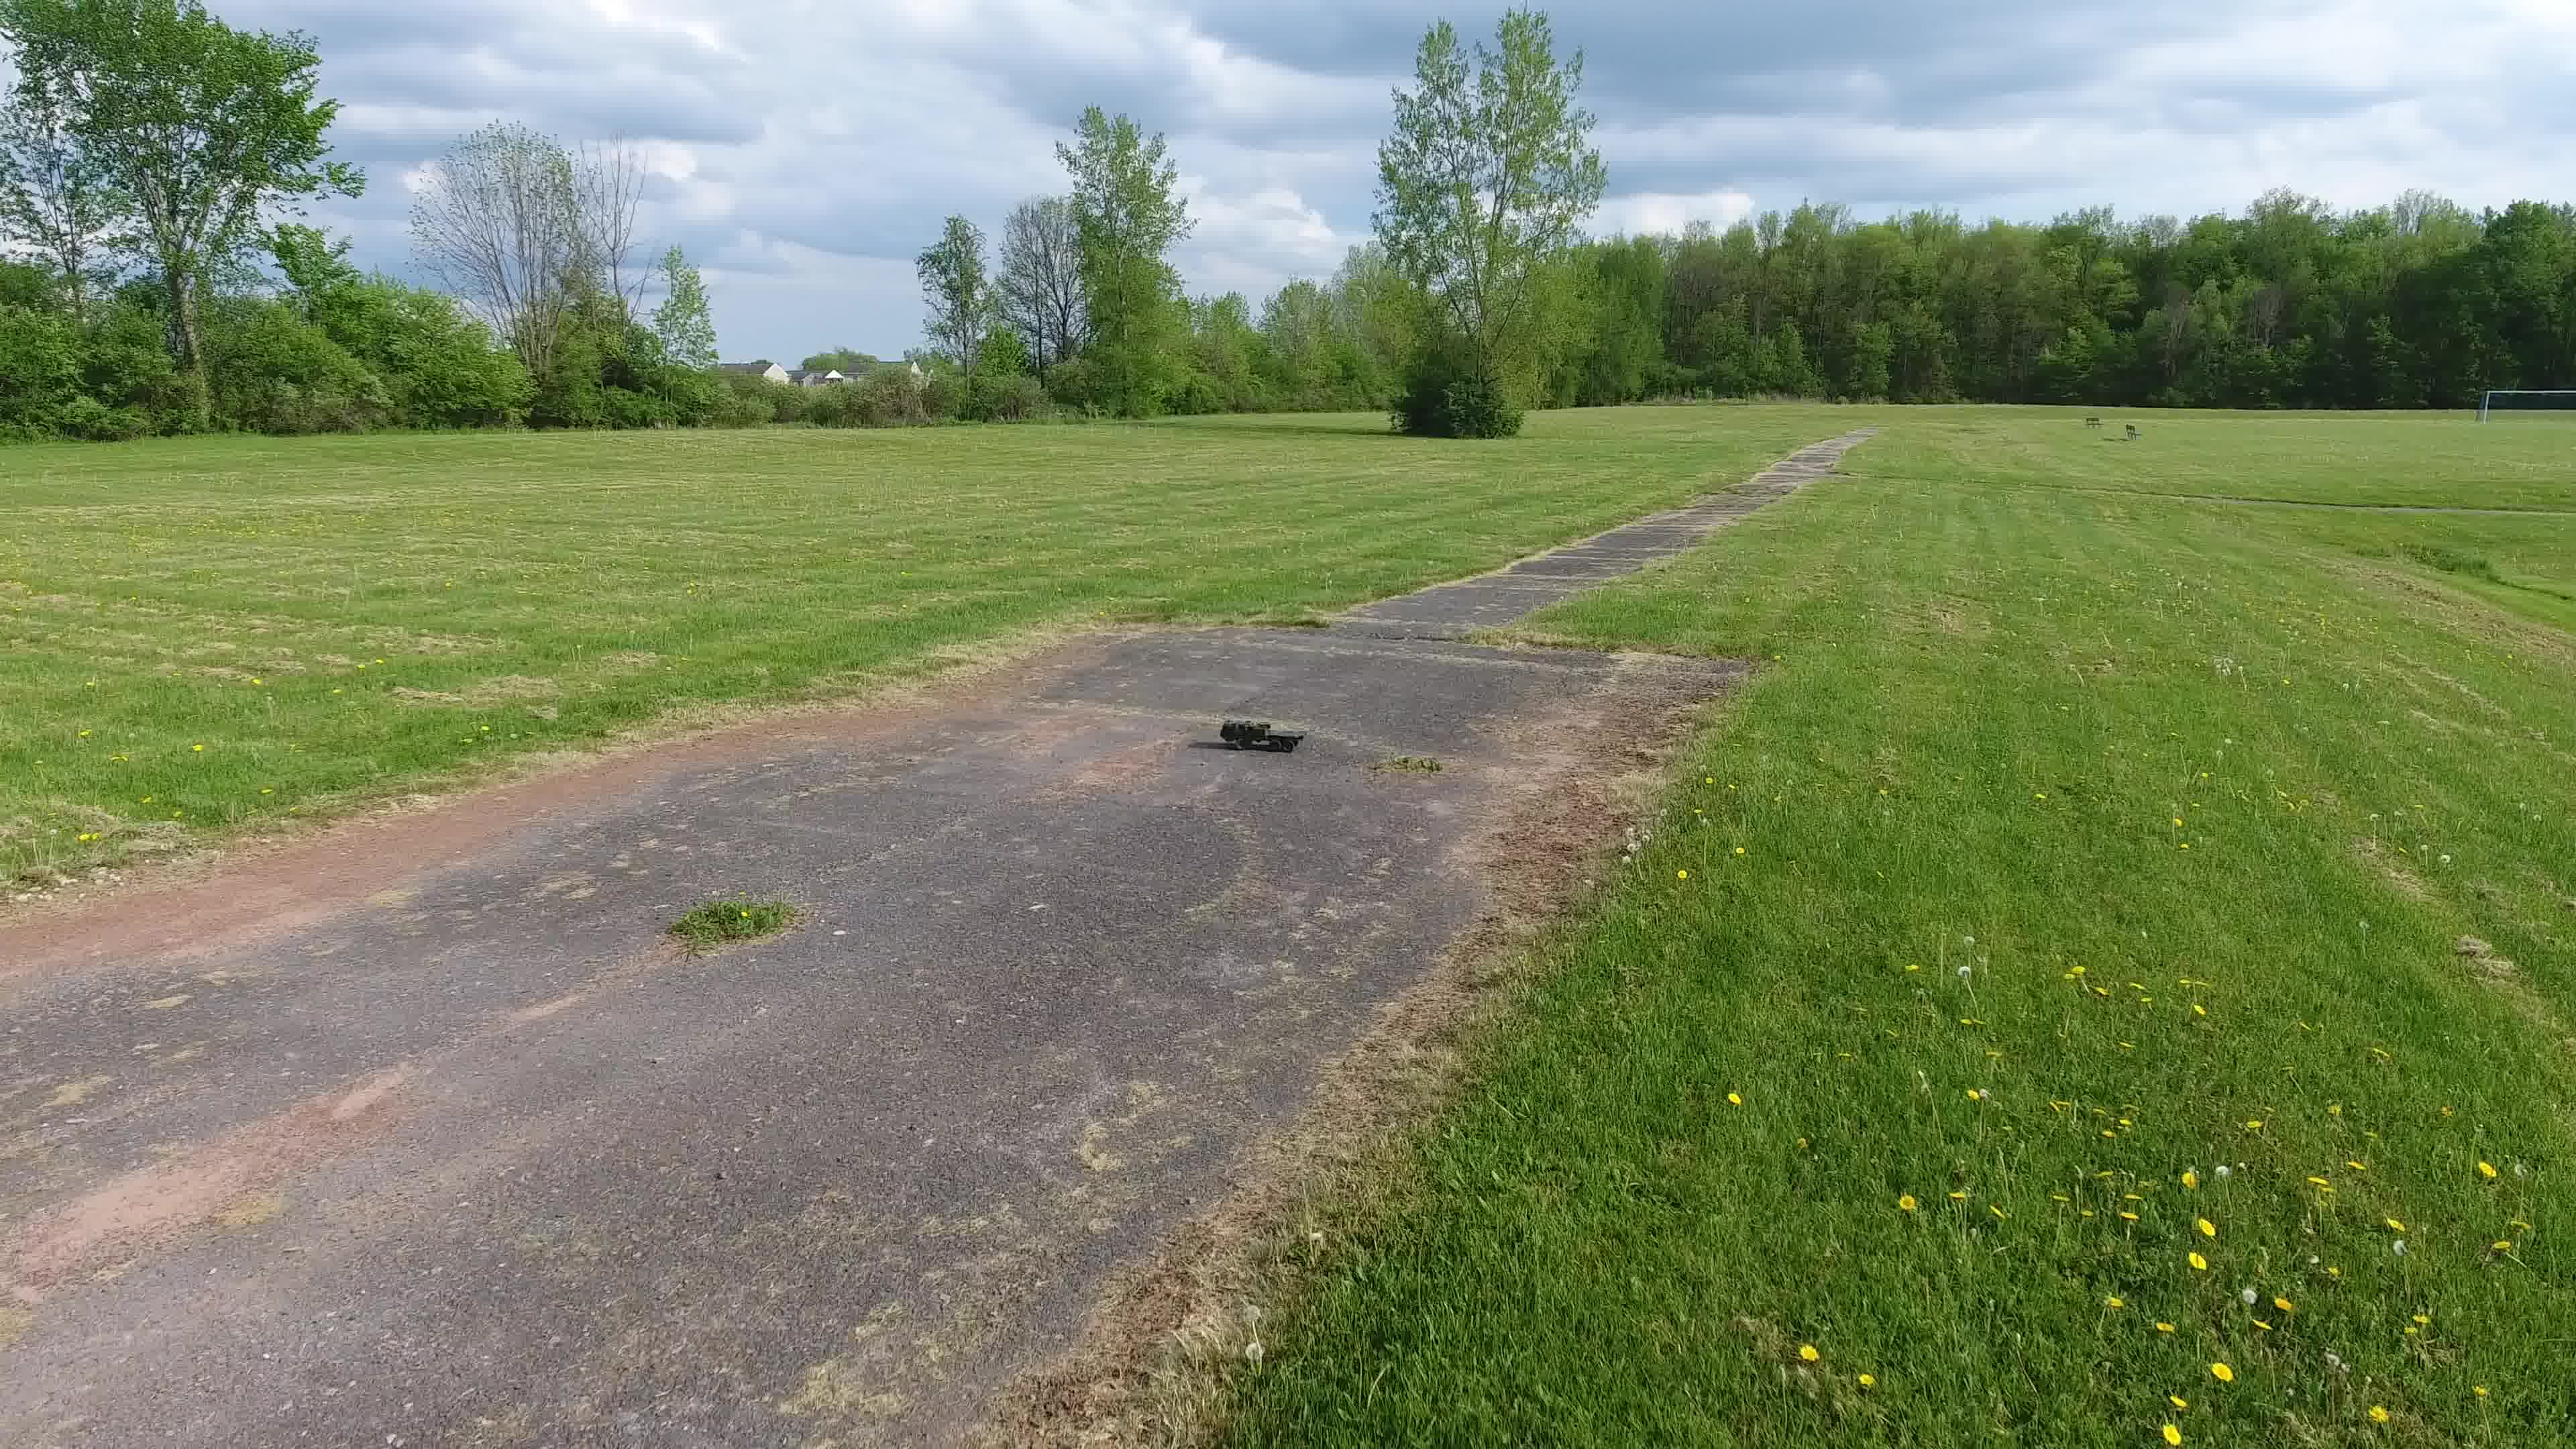transporter9: (1219, 718, 1306, 754)
